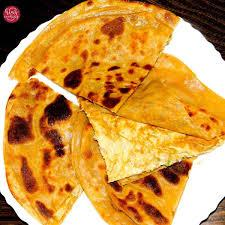paratha: (77, 94, 183, 224), (29, 1, 168, 92)
